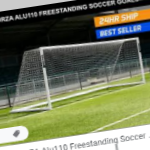goals: (10, 36, 145, 111)
